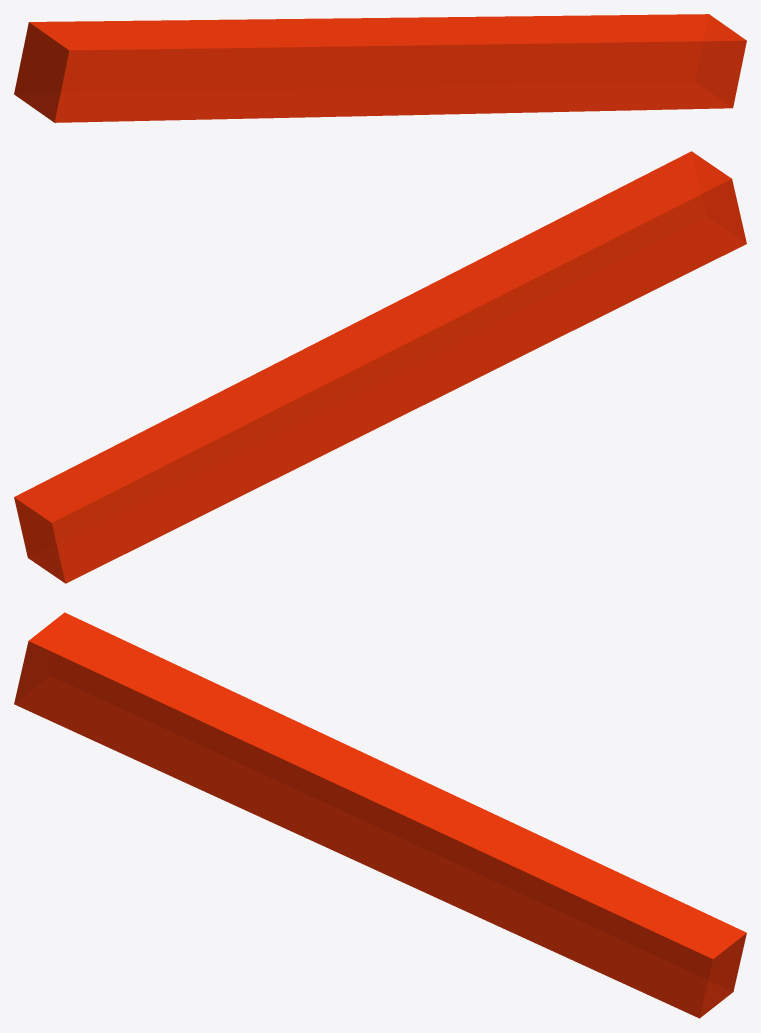
The model's file is Event_420094457_EErechit_0.fbx.
3 views of the same model, one above another, from view 1: azimuth 30°, elevation 25°; view 2: azimuth 210°, elevation 25°; view 3: azimuth 330°, elevation 25° (orthographic). The views are drawn at different scales.
Visible parts, largest first — view 1: Model; view 2: Model; view 3: Model.
Boxes of the visible parts, x1,y1,x2,y2 form: Model: (14, 14, 746, 122); Model: (14, 151, 746, 583); Model: (14, 612, 746, 1018).
Bounding box in the file's own units: 0.8154 × 0.2565 × 0.0982.
